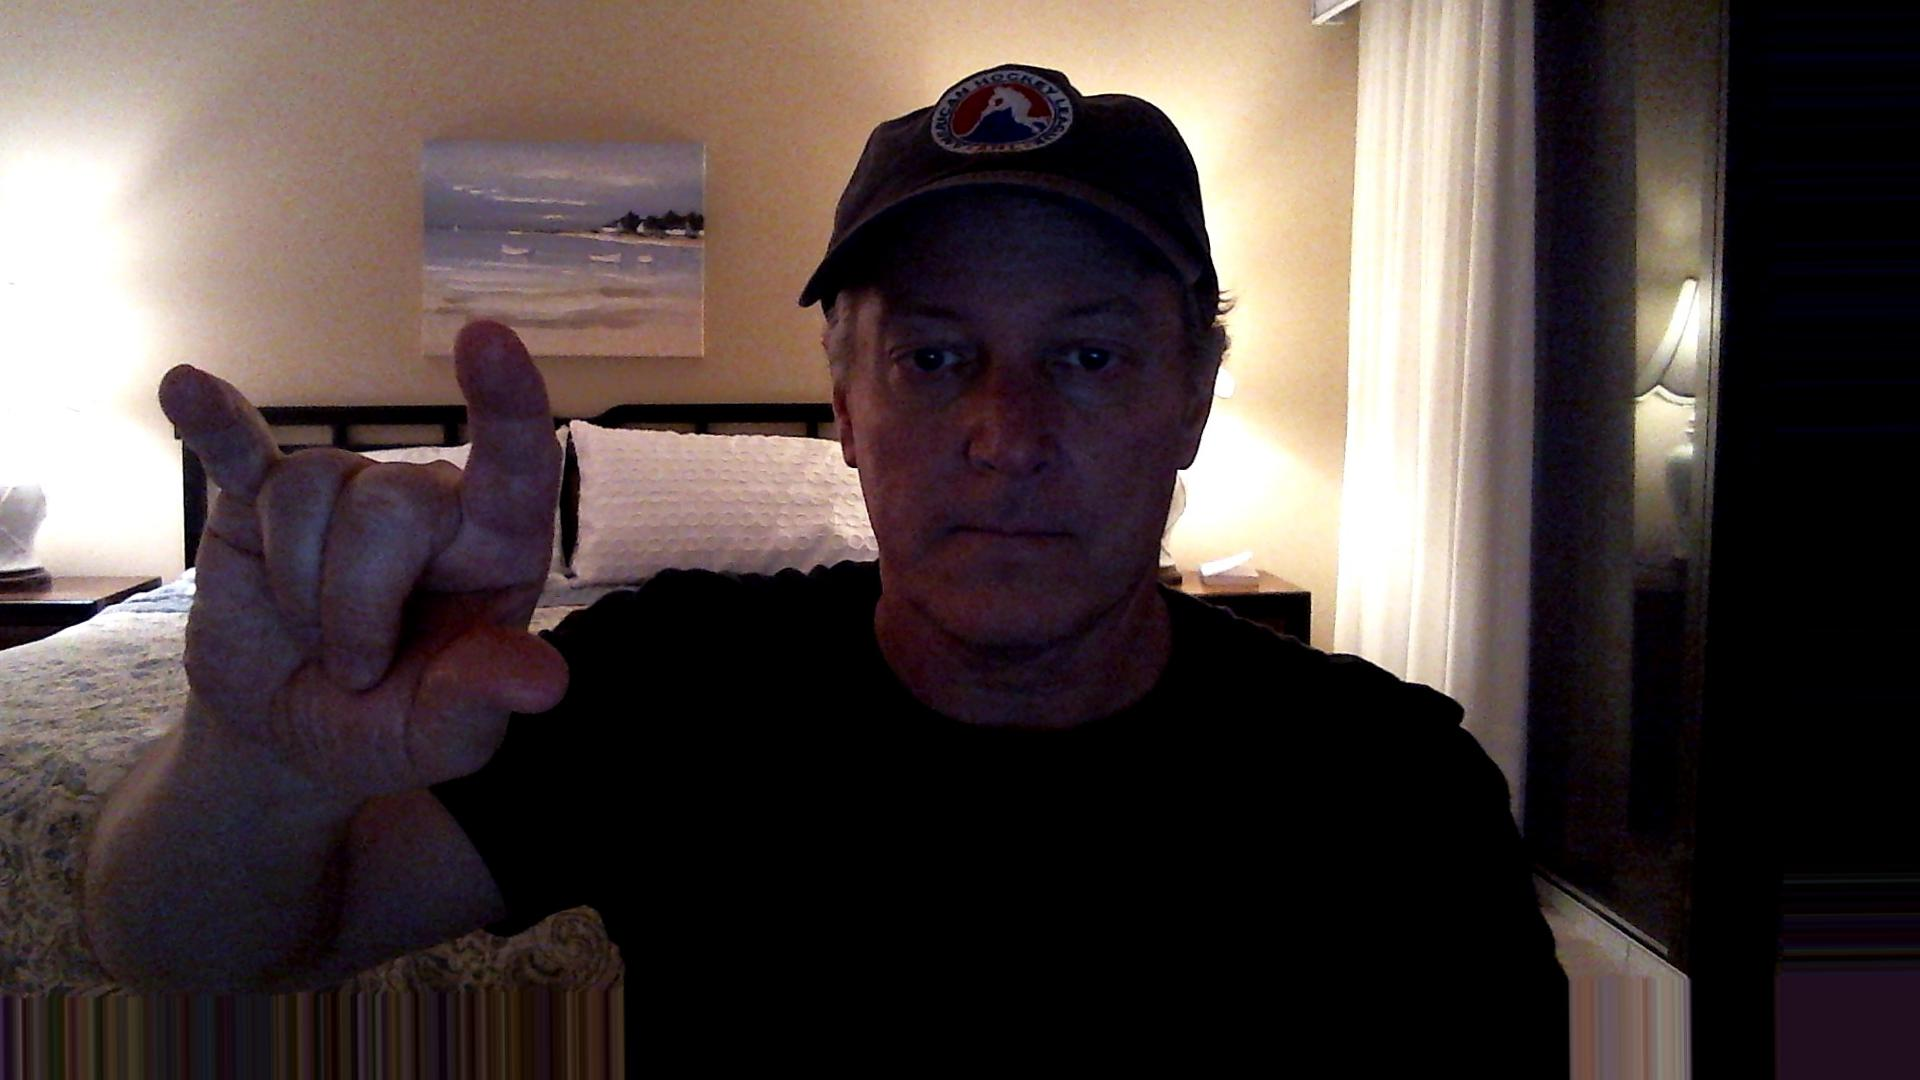I Love You: (145, 303, 600, 825)
